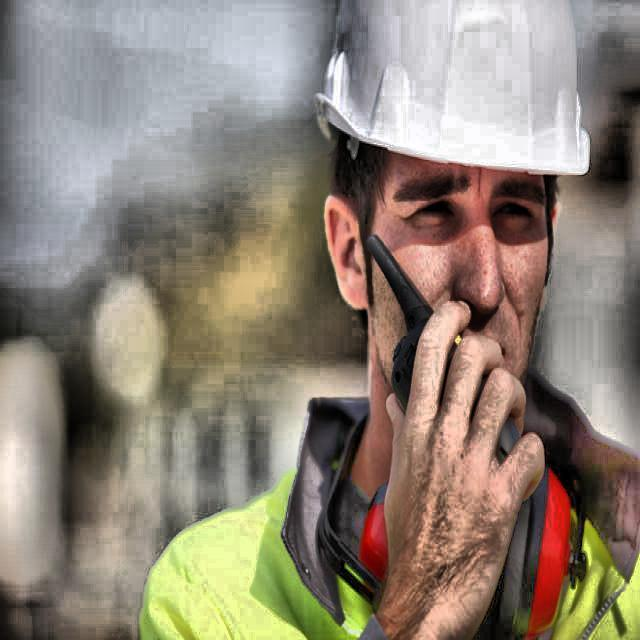person: (134, 19, 636, 640)
